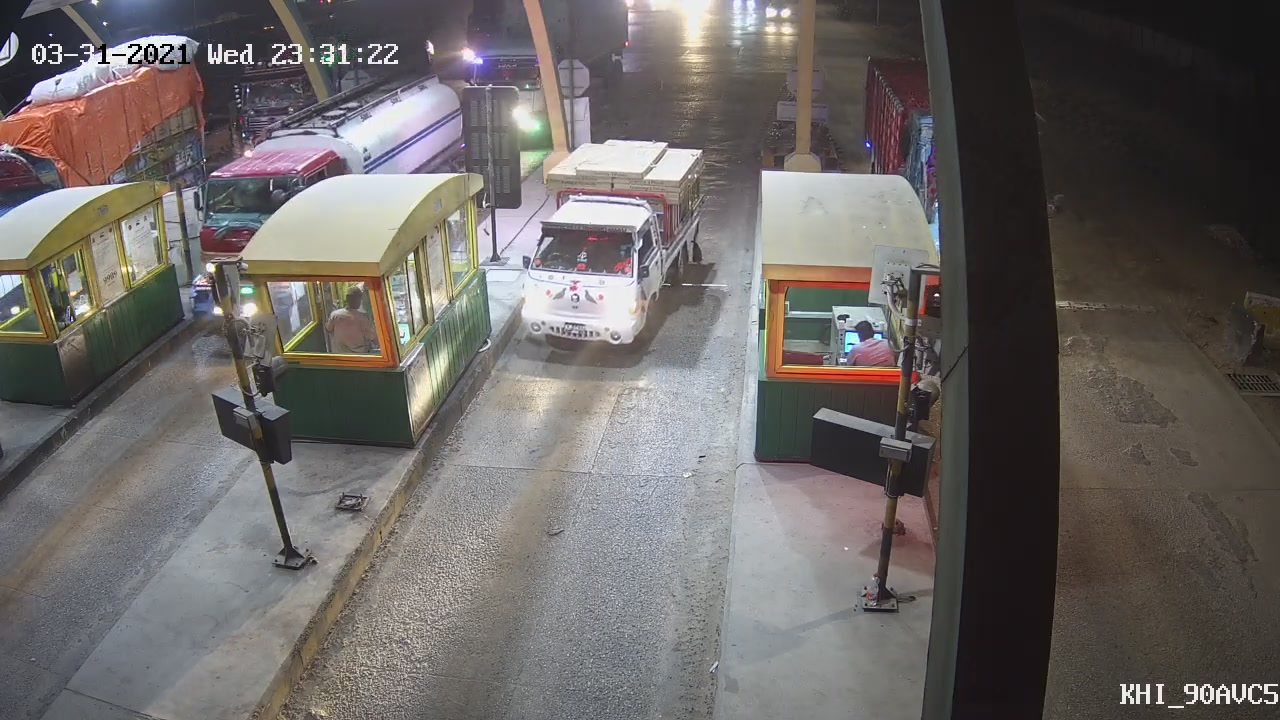F2: (509, 153, 701, 358)
